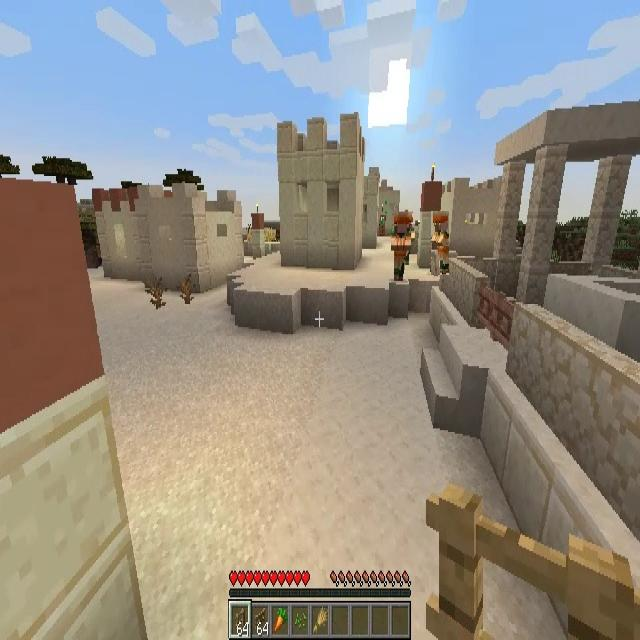people: (391, 212, 414, 281), (431, 212, 449, 276)
